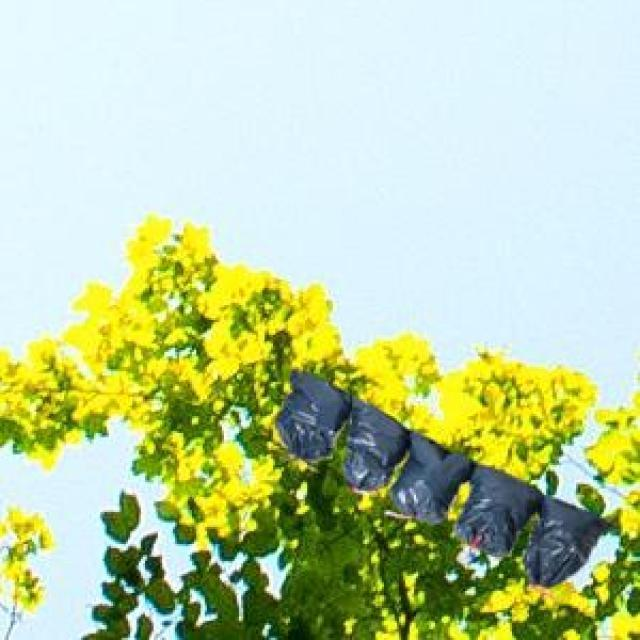Vinyl: (276, 372, 609, 586)
